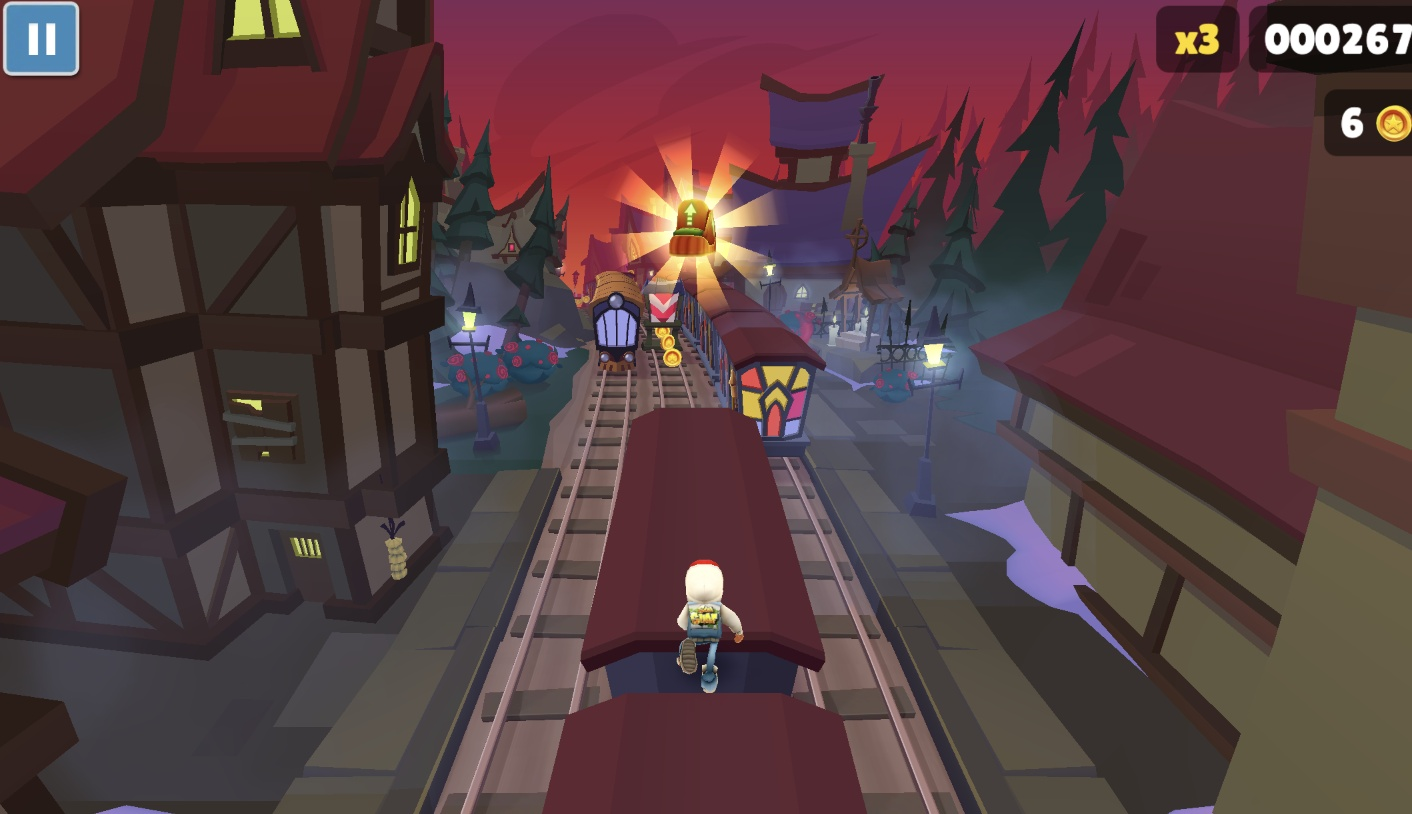overhead_barrier: (641, 280, 684, 349)
train: (540, 418, 866, 814), (681, 275, 831, 464), (585, 271, 646, 374)
